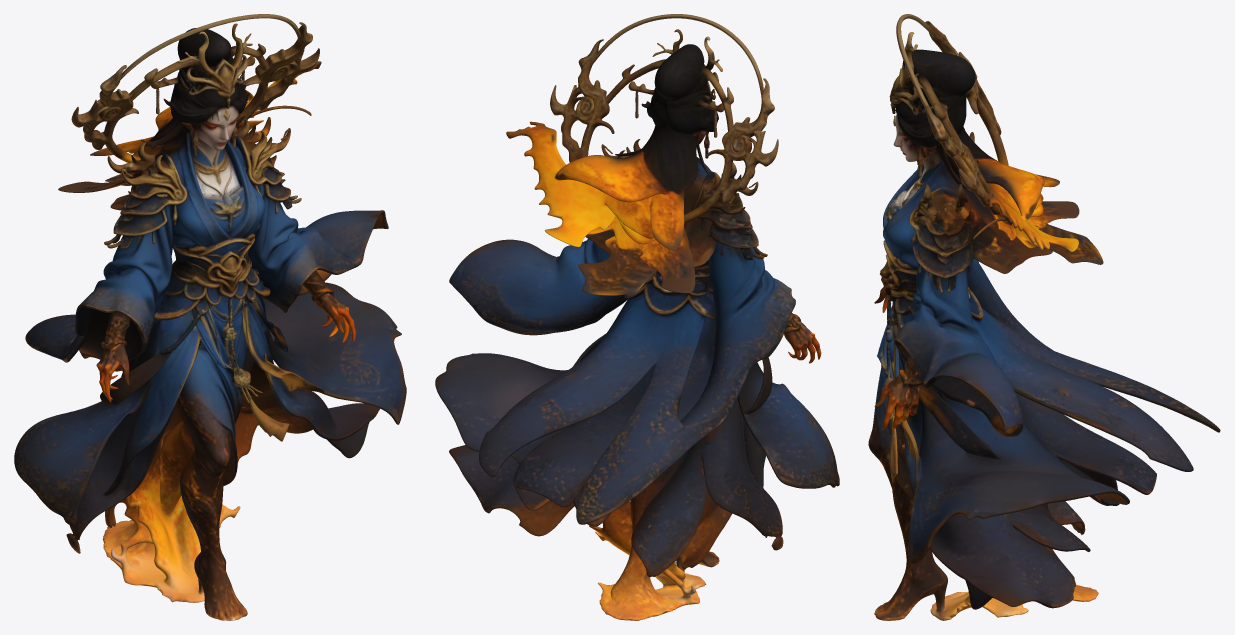
Rendered from han-ba.glb.
3 views of the same model, side by side, from view 1: azimuth 30°, elevation 25°; view 2: azimuth 150°, elevation 25°; view 3: azimuth 270°, elevation 25° (orthographic). The views are drawn at different scales.
Parts seen in each view (by area): view 1: node_0; view 2: node_0; view 3: node_0.
Boxes of the visible parts, bbox=[...] form: node_0: bbox=[14, 14, 406, 620]; node_0: bbox=[435, 14, 839, 620]; node_0: bbox=[868, 14, 1220, 620].
Bounding box in the file's own units: 0.7258 × 1.06 × 0.5765.
1 material, 1 textured.
